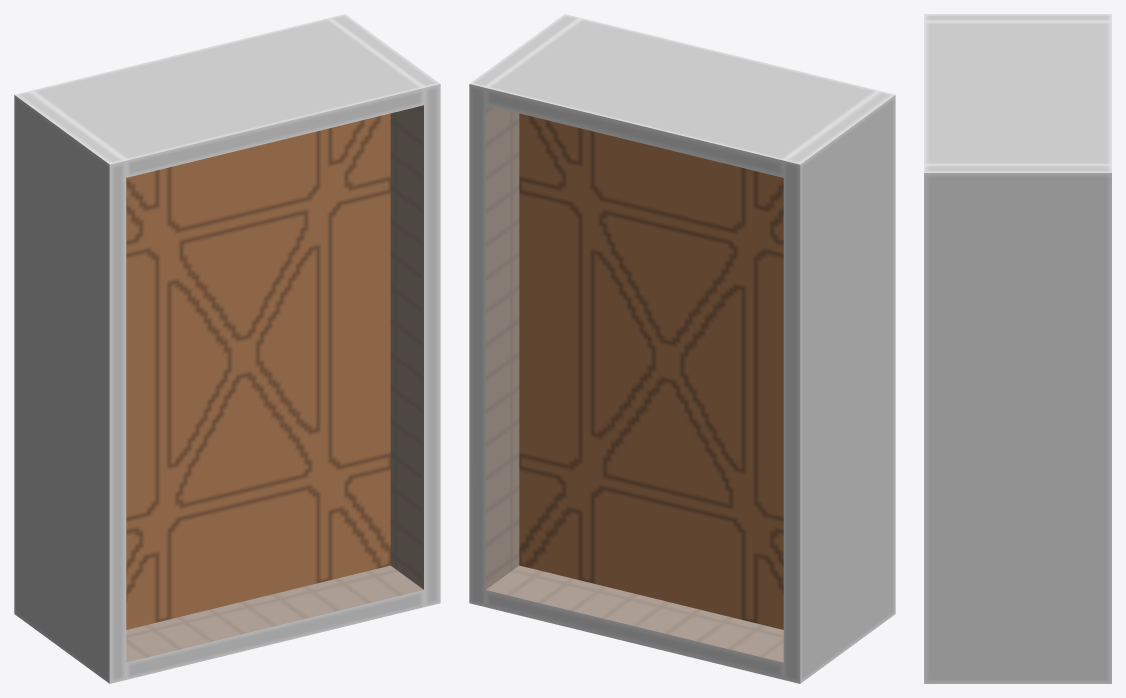
File: door2x3.fbx
3 views of the same model, side by side, from view 1: azimuth 30°, elevation 25°; view 2: azimuth 150°, elevation 25°; view 3: azimuth 270°, elevation 25° (orthographic).
Parts seen in each view (by area): view 1: pCube7, pCube1; view 2: pCube7, pCube1; view 3: pCube7.
Boxes of the visible parts, x1,y1,x2,y2 form: pCube7: (14, 14, 440, 683); pCube1: (126, 113, 390, 629); pCube7: (469, 14, 895, 683); pCube1: (519, 113, 783, 629); pCube7: (924, 14, 1111, 683).
Size of the model in its own units: 2 by 3 by 1.
2 materials, 2 textured.
